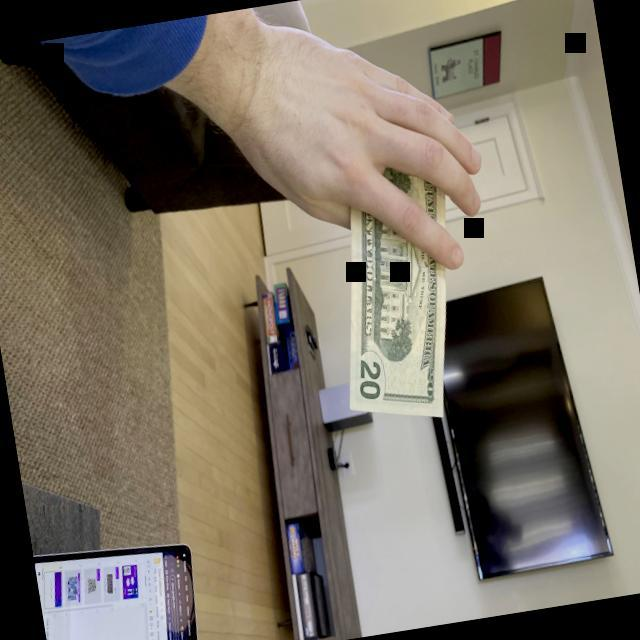twenty: (348, 157, 447, 418)
